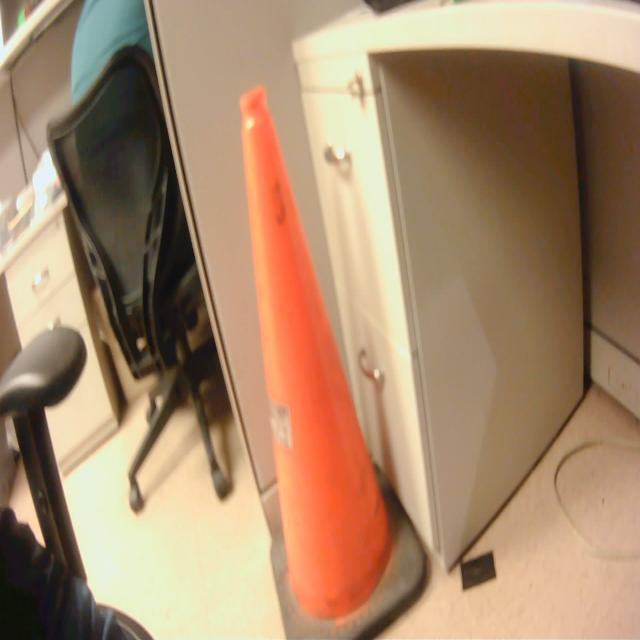traffic cone: (234, 79, 436, 640)
